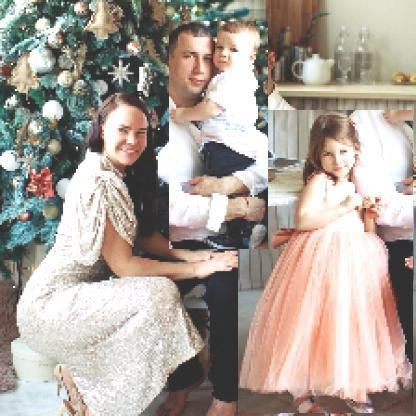child: (239, 111, 415, 415), (170, 22, 270, 251)
